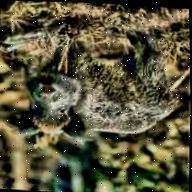boar: (18, 31, 192, 166)
